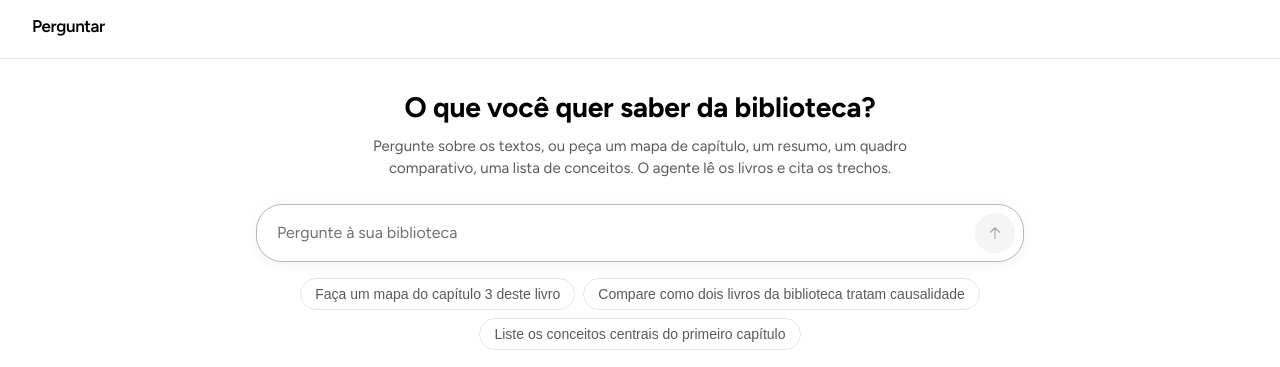
Test: página Perguntar › nova conversa: envia a pergunta, mostra a fila e navega para o fio
Expected: the heading "Perguntar" is shown, [32,16,105,36]
Click the button "Faça um mapa do capítulo 3 deste livro" at (438, 294), box [300,278,575,310]
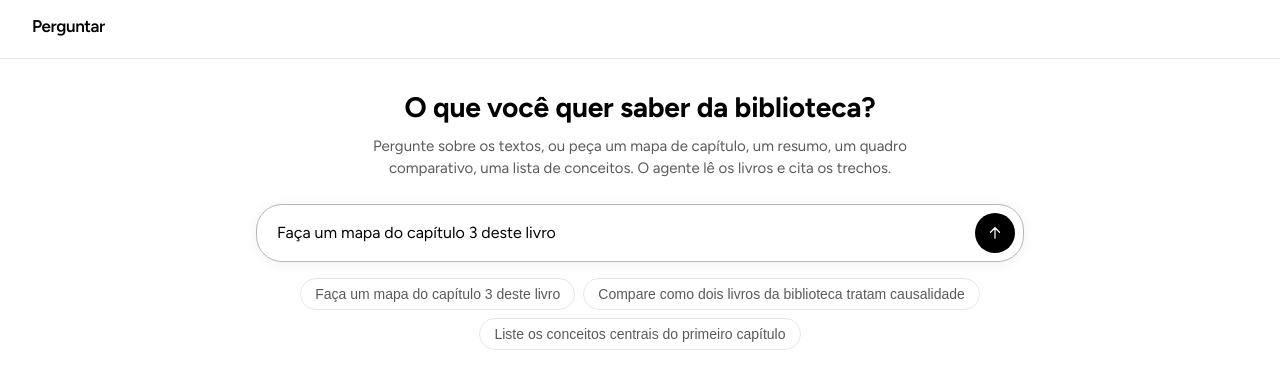
Expected: the text box named "Sua pergunta" holds "Faça um mapa do capítulo 3 deste livro", [277,213,967,253]
Click the button named "Enviar pergunta" at (995, 233), box [975,213,1015,253]
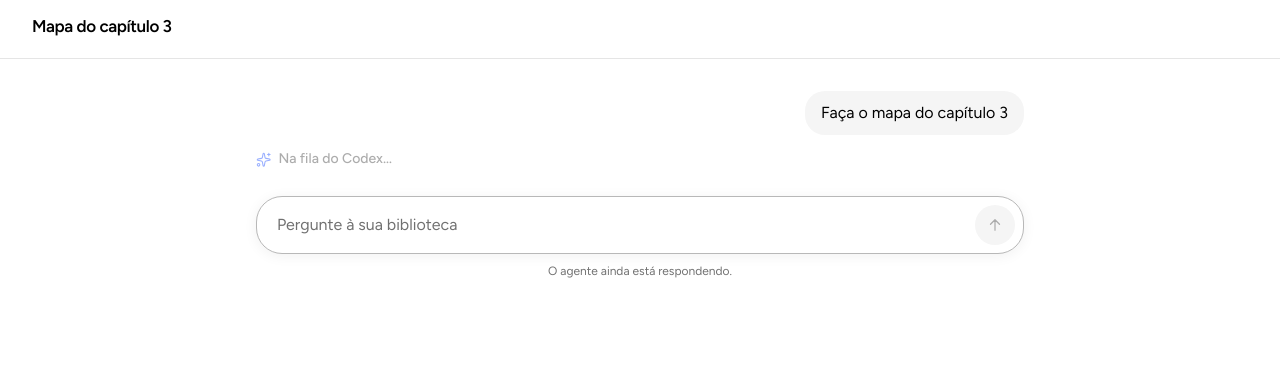
Expected: the text "Na fila do Codex…" is shown, [278,151,392,168]
